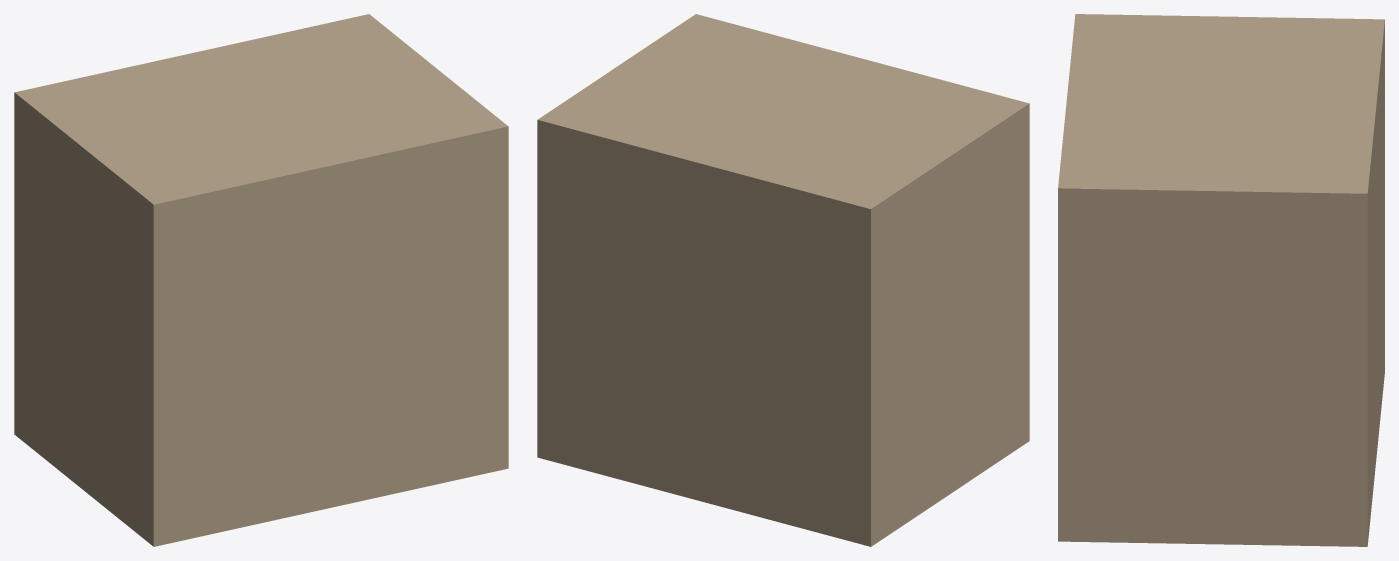
File: bld_101374836.dae
3 views of the same model, side by side, from view 1: azimuth 30°, elevation 25°; view 2: azimuth 150°, elevation 25°; view 3: azimuth 270°, elevation 25° (orthographic). The views are drawn at different scales.
Visible parts, largest first — view 1: bld_101374836; view 2: bld_101374836; view 3: bld_101374836.
Part boxes in pixels (bbox=[...]): bld_101374836: bbox=[14, 14, 508, 546]; bld_101374836: bbox=[537, 14, 1029, 546]; bld_101374836: bbox=[1058, 14, 1384, 546].
Bounding box in the file's own units: 8.73 × 6.71 × 8.
